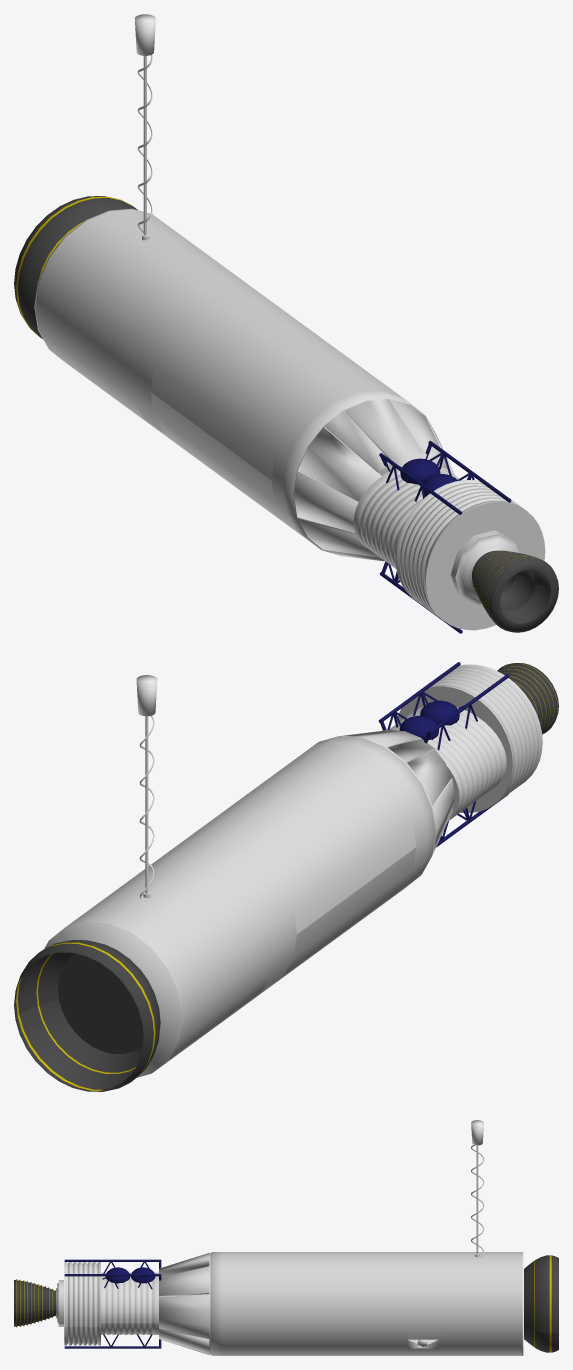
Rendered from firerocket9.glb.
3 views of the same model, one above another, from view 1: azimuth 30°, elevation 25°; view 2: azimuth 150°, elevation 25°; view 3: azimuth 270°, elevation 25° (orthographic). The views are drawn at different scales.
Parts seen in each view (by area): view 1: 006polySurfac, 003pCylinder, 001pPipe1, 005pCylinder1, 002pSphere1 g, 004pCylinder; view 2: 006polySurfac, 005pCylinder1, 003pCylinder, 002pSphere1 g, 001pPipe1, 004pCylinder; view 3: 006polySurfac, 003pCylinder, 005pCylinder1, 002pSphere1 g, 001pPipe1, 004pCylinder.
Boxes of the visible parts, x1,y1,x2,y2 form: 006polySurfac: (34, 208, 454, 561); 003pCylinder: (353, 465, 545, 630); 001pPipe1: (472, 550, 558, 632); 005pCylinder1: (14, 196, 137, 338); 002pSphere1 g: (379, 441, 511, 633); 004pCylinder: (135, 14, 155, 240); 006polySurfac: (44, 730, 454, 1077); 005pCylinder1: (14, 940, 160, 1091); 003pCylinder: (389, 664, 542, 821); 002pSphere1 g: (378, 662, 509, 847); 001pPipe1: (497, 663, 558, 734); 004pCylinder: (136, 675, 157, 898); 006polySurfac: (159, 1252, 523, 1355); 003pCylinder: (56, 1262, 158, 1345); 005pCylinder1: (524, 1255, 558, 1352); 002pSphere1 g: (64, 1259, 161, 1348); 001pPipe1: (14, 1279, 55, 1327); 004pCylinder: (471, 1120, 484, 1257).
Bounding box in the file's own units: 5.23 × 12.59 × 27.25.
